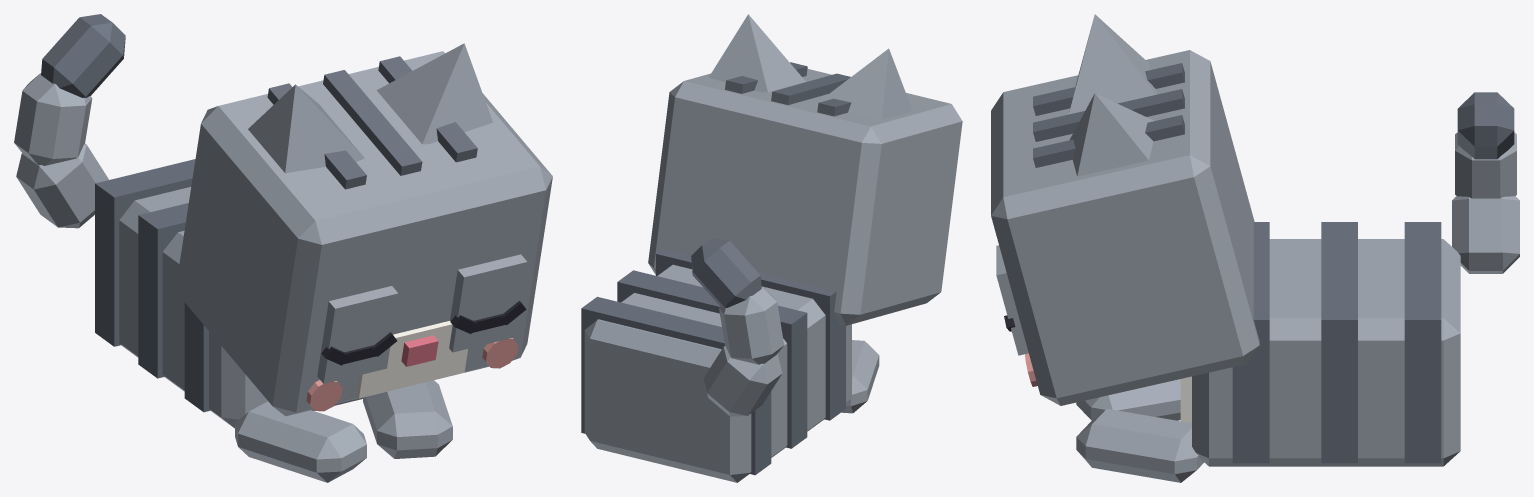
The model's file is CleanACat_Cat_Smudge_Loaf_Lite.fbx.
3 views of the same model, side by side, from view 1: azimuth 30°, elevation 25°; view 2: azimuth 150°, elevation 25°; view 3: azimuth 270°, elevation 25° (orthographic). The views are drawn at different scales.
Parts seen in each view (by area): view 1: CleanACat_Cat_Smudge_Loaf_Lite_Head, CleanACat_Cat_Smudge_Loaf_Lite_Body, CleanACat_Cat_Smudge_Loaf_Lite_Tail, CleanACat_Cat_Smudge_Loaf_Lite_Paws, CleanACat_Cat_Smudge_Loaf_Lite_EarL, CleanACat_Cat_Smudge_Loaf_Lite_Eye2, CleanACat_Cat_Smudge_Loaf_Lite_Eye1, CleanACat_Cat_Smudge_Loaf_Lite_EarR; view 2: CleanACat_Cat_Smudge_Loaf_Lite_Head, CleanACat_Cat_Smudge_Loaf_Lite_Body, CleanACat_Cat_Smudge_Loaf_Lite_Tail, CleanACat_Cat_Smudge_Loaf_Lite_EarL, CleanACat_Cat_Smudge_Loaf_Lite_EarR, CleanACat_Cat_Smudge_Loaf_Lite_Paws; view 3: CleanACat_Cat_Smudge_Loaf_Lite_Head, CleanACat_Cat_Smudge_Loaf_Lite_Body, CleanACat_Cat_Smudge_Loaf_Lite_Tail, CleanACat_Cat_Smudge_Loaf_Lite_Paws, CleanACat_Cat_Smudge_Loaf_Lite_EarL, CleanACat_Cat_Smudge_Loaf_Lite_EarR, CleanACat_Cat_Smudge_Loaf_Lite_Eye1.
Part boxes in pixels (x1=…): CleanACat_Cat_Smudge_Loaf_Lite_Head: x1=175, y1=51, x2=552, y2=416; CleanACat_Cat_Smudge_Loaf_Lite_Body: x1=95, y1=159, x2=362, y2=428; CleanACat_Cat_Smudge_Loaf_Lite_Tail: x1=14, y1=14, x2=125, y2=228; CleanACat_Cat_Smudge_Loaf_Lite_Paws: x1=235, y1=380, x2=452, y2=482; CleanACat_Cat_Smudge_Loaf_Lite_EarL: x1=376, y1=43, x2=492, y2=144; CleanACat_Cat_Smudge_Loaf_Lite_Eye2: x1=317, y1=286, x2=398, y2=383; CleanACat_Cat_Smudge_Loaf_Lite_Eye1: x1=449, y1=254, x2=527, y2=352; CleanACat_Cat_Smudge_Loaf_Lite_EarR: x1=248, y1=84, x2=364, y2=173; CleanACat_Cat_Smudge_Loaf_Lite_Head: x1=648, y1=62, x2=962, y2=325; CleanACat_Cat_Smudge_Loaf_Lite_Body: x1=581, y1=249, x2=851, y2=482; CleanACat_Cat_Smudge_Loaf_Lite_Tail: x1=691, y1=238, x2=783, y2=416; CleanACat_Cat_Smudge_Loaf_Lite_EarL: x1=709, y1=14, x2=805, y2=92; CleanACat_Cat_Smudge_Loaf_Lite_EarR: x1=816, y1=48, x2=912, y2=119; CleanACat_Cat_Smudge_Loaf_Lite_Paws: x1=841, y1=340, x2=879, y2=413; CleanACat_Cat_Smudge_Loaf_Lite_Head: x1=991, y1=50, x2=1259, y2=405; CleanACat_Cat_Smudge_Loaf_Lite_Body: x1=1180, y1=222, x2=1460, y2=466; CleanACat_Cat_Smudge_Loaf_Lite_Tail: x1=1452, y1=92, x2=1519, y2=273; CleanACat_Cat_Smudge_Loaf_Lite_Paws: x1=1076, y1=379, x2=1203, y2=482; CleanACat_Cat_Smudge_Loaf_Lite_EarL: x1=1070, y1=93, x2=1154, y2=176; CleanACat_Cat_Smudge_Loaf_Lite_EarR: x1=1069, y1=14, x2=1156, y2=114; CleanACat_Cat_Smudge_Loaf_Lite_Eye1: x1=996, y1=245, x2=1028, y2=355.
Bounding box in the file's own units: 1.11 × 1.52 × 1.87.
1 material, 1 textured.
